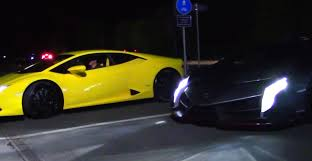Lamborghini: (188, 52, 310, 128)
